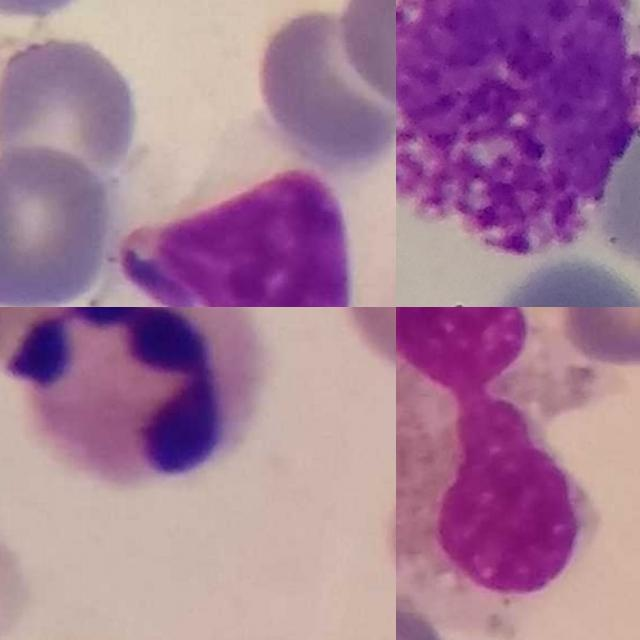Basophil: (396, 0, 640, 259)
Eosinophil: (396, 307, 631, 598)
Lymphocyte: (107, 129, 371, 307)
Neutrophil: (7, 307, 258, 487)
